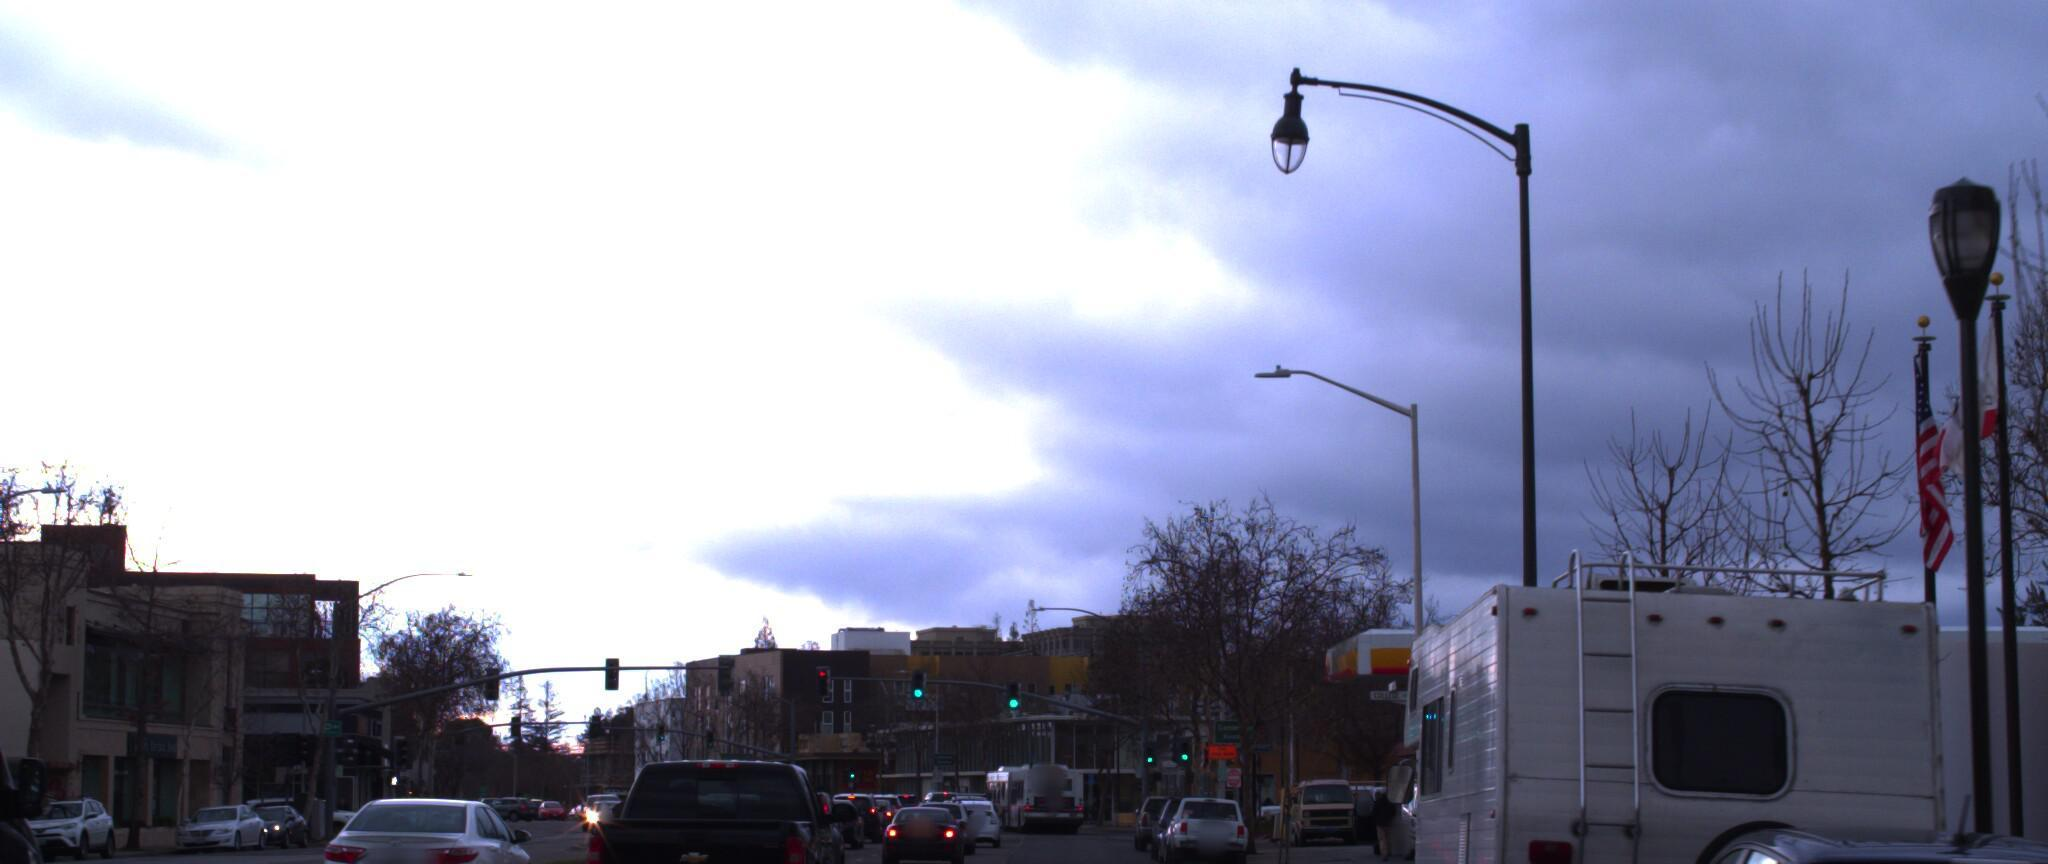car: (0, 450, 89, 864), (571, 733, 846, 864), (1562, 800, 2048, 864), (312, 780, 550, 864), (4, 771, 133, 844), (1164, 774, 1243, 855), (874, 780, 965, 850), (1846, 850, 2048, 864)
other_vehicle: (1358, 531, 1989, 864)
